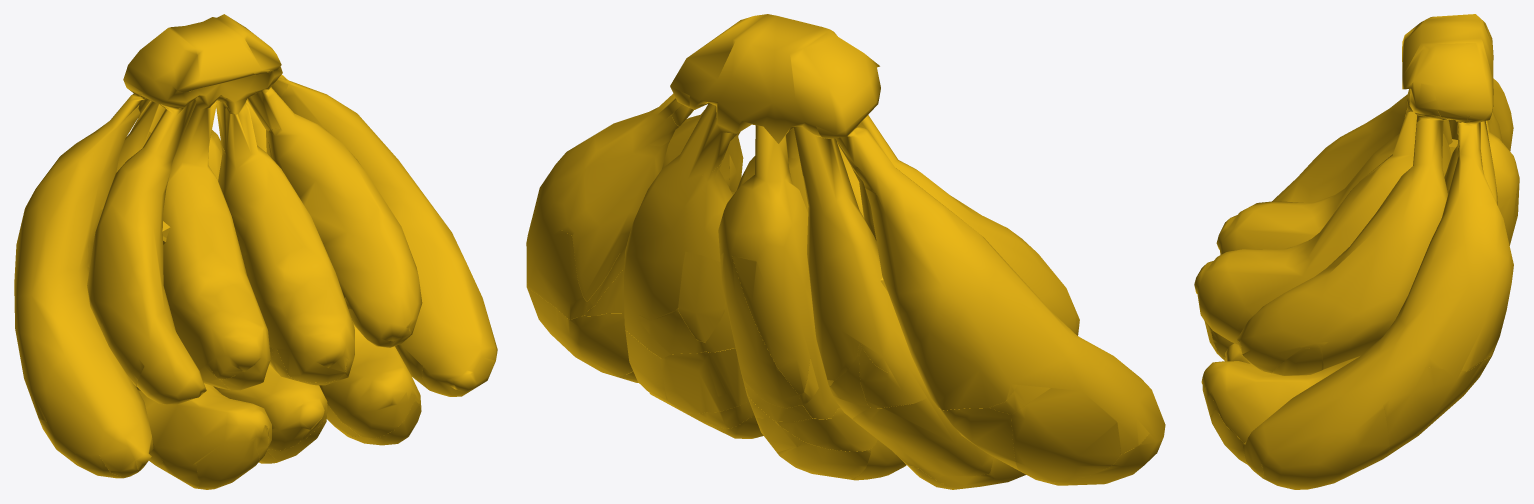
File: banana.glb
3 views of the same model, side by side, from view 1: azimuth 30°, elevation 25°; view 2: azimuth 150°, elevation 25°; view 3: azimuth 270°, elevation 25° (orthographic). The views are drawn at different scales.
Parts seen in each view (by area): view 1: Banana_Whole, Shard.067, Shard.099, Shard.009, Shard.038, Shard.010, Shard.077, Shard.064, Shard.078, Shard.014, Shard.126, Shard.047 (+4 smaller); view 2: Banana_Whole, Shard.041, Shard.048, Shard.106, Shard.034, Shard.023, Shard.015, Shard.095, Shard.069, Shard.094, Shard.031, Shard.086 (+15 smaller); view 3: Banana_Whole, Shard.095, Shard.007, Shard.069, Shard.139, Shard.076, Shard.066, Shard.010, Shard.078, Shard.015.
Part boxes in pixels (x1,y1,x2,y2): Banana_Whole: [14, 14, 497, 481]; Shard.067: [196, 435, 259, 489]; Shard.099: [327, 392, 415, 438]; Shard.009: [276, 347, 346, 382]; Shard.038: [422, 357, 493, 396]; Shard.010: [331, 400, 421, 445]; Shard.077: [221, 358, 269, 390]; Shard.064: [268, 420, 311, 450]; Shard.078: [247, 65, 282, 131]; Shard.014: [99, 447, 138, 477]; Shard.126: [348, 309, 410, 347]; Shard.047: [215, 91, 255, 154]; Banana_Whole: [526, 14, 1165, 465]; Shard.041: [1011, 388, 1120, 482]; Shard.048: [882, 277, 1017, 410]; Shard.106: [852, 398, 993, 476]; Shard.034: [733, 256, 810, 395]; Shard.023: [661, 348, 748, 413]; Shard.015: [720, 253, 800, 408]; Shard.095: [526, 281, 629, 376]; Shard.069: [526, 219, 586, 319]; Shard.094: [678, 251, 725, 342]; Shard.031: [940, 408, 1019, 470]; Shard.086: [774, 408, 877, 451]; Banana_Whole: [1194, 14, 1519, 467]; Shard.095: [1381, 355, 1492, 459]; Shard.007: [1261, 406, 1389, 489]; Shard.069: [1426, 280, 1511, 371]; Shard.139: [1272, 348, 1323, 375]; Shard.076: [1199, 300, 1252, 344]; Shard.066: [1238, 339, 1301, 373]; Shard.010: [1210, 409, 1247, 464]; Shard.078: [1402, 83, 1448, 160]; Shard.015: [1499, 192, 1516, 245].
Bounding box in the file's own units: 9.08 × 7.51 × 5.46.
